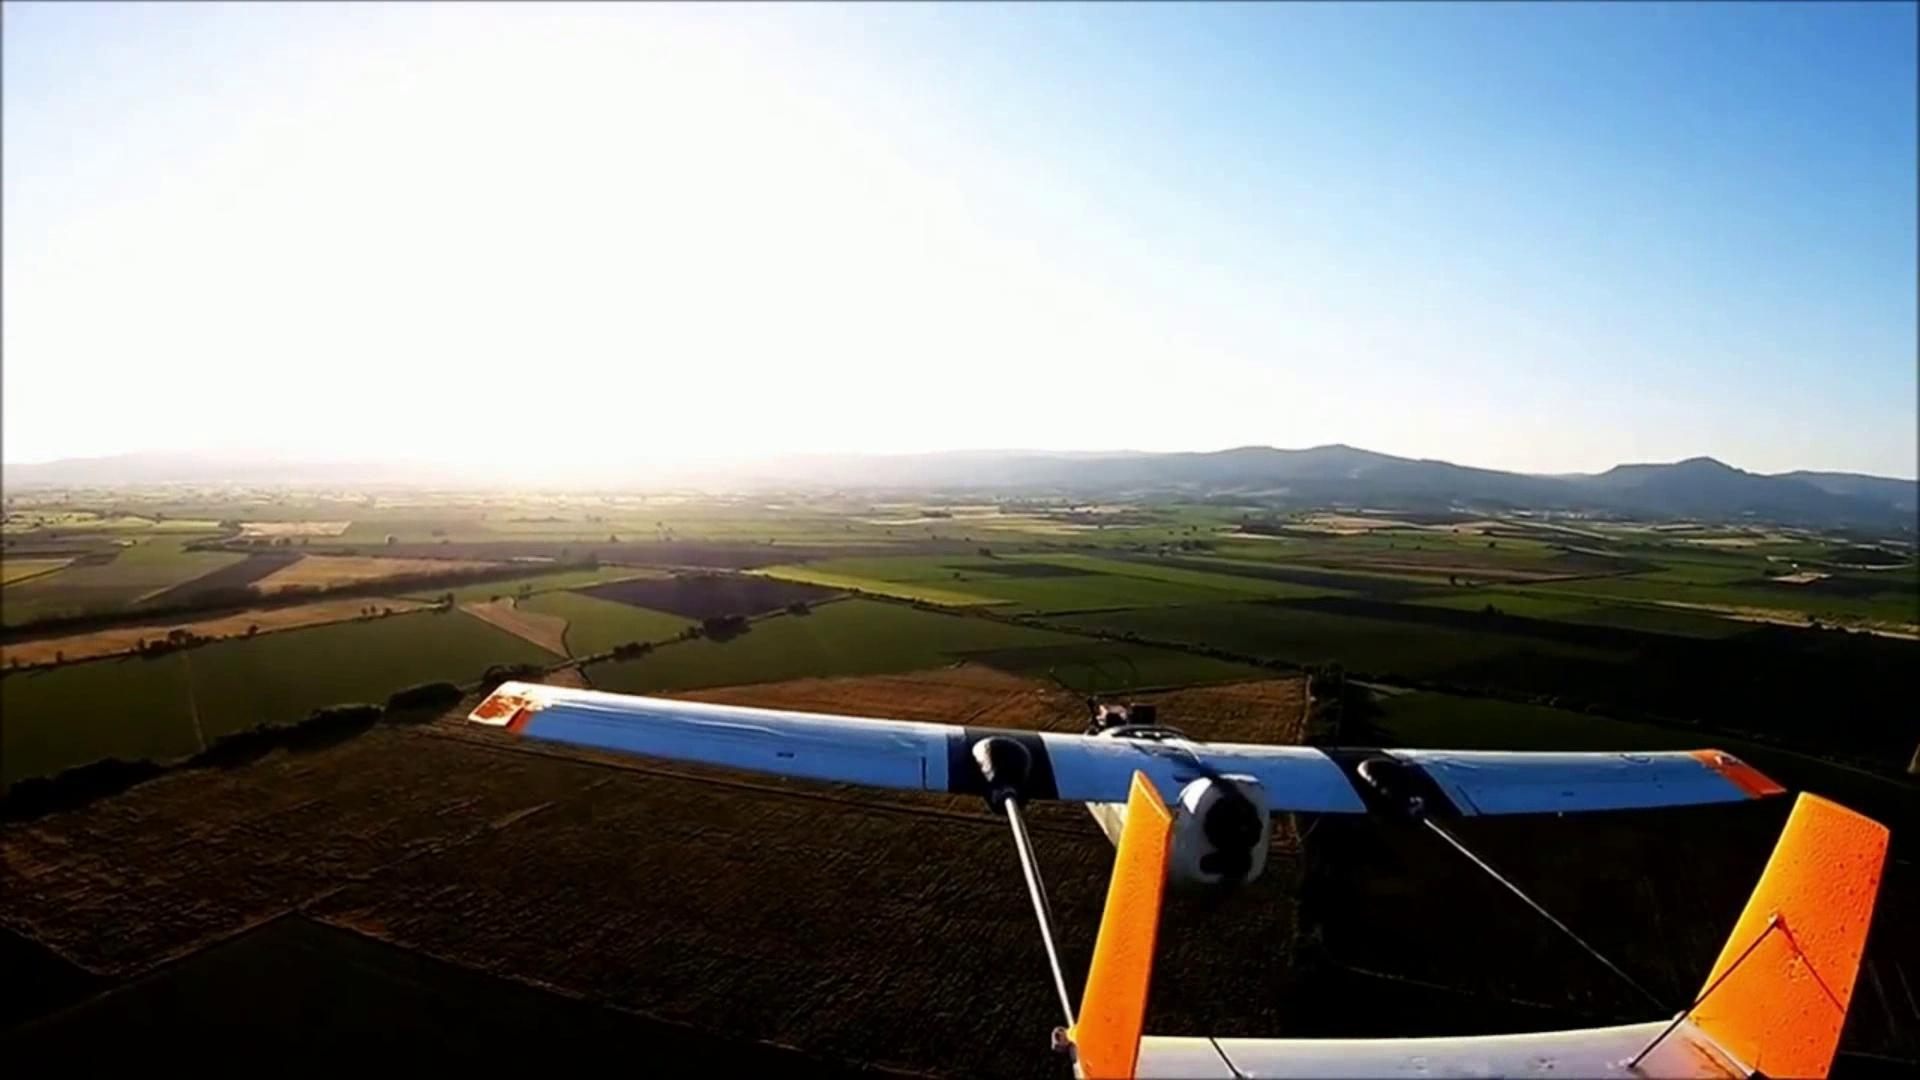airplane: (473, 684, 1909, 1065)
